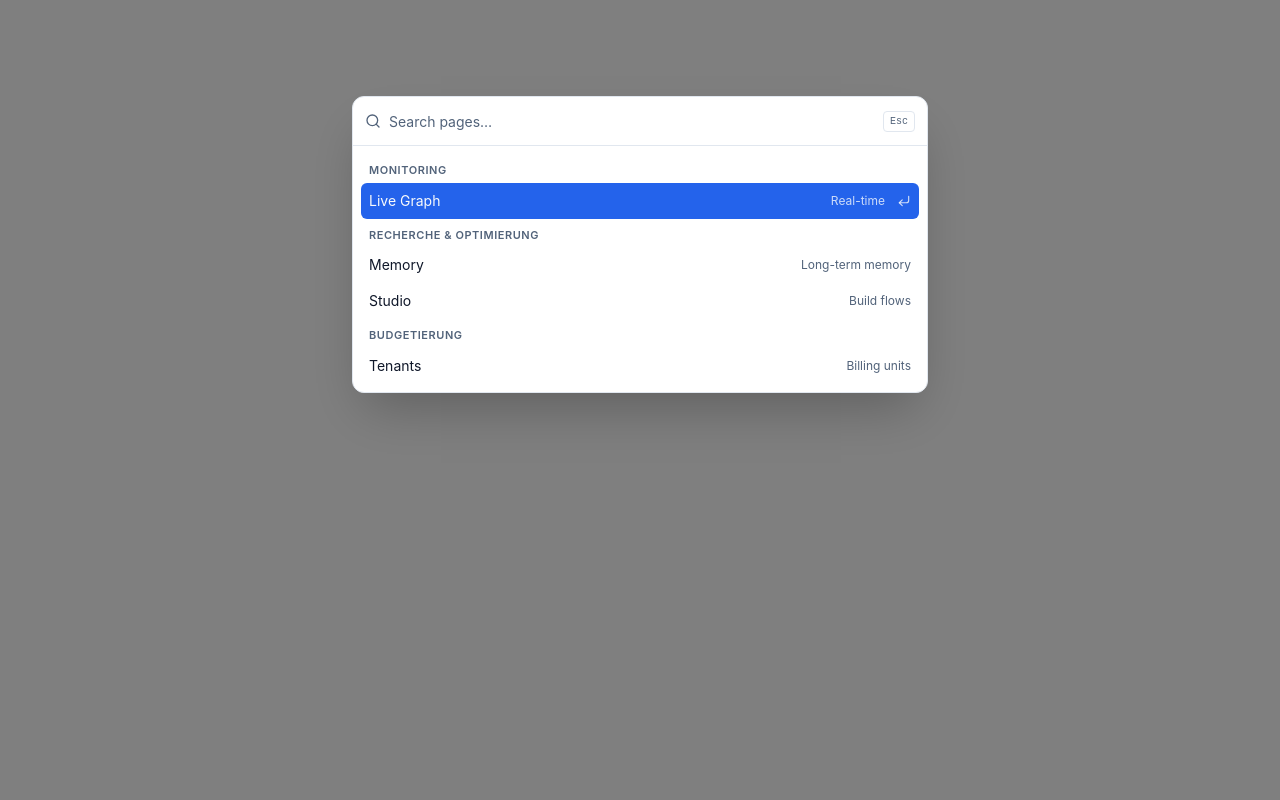
Test: CommandPalette › shows a no-match message
In the dropdown: (632, 121) [389, 97, 875, 145], type "zzzzzz"
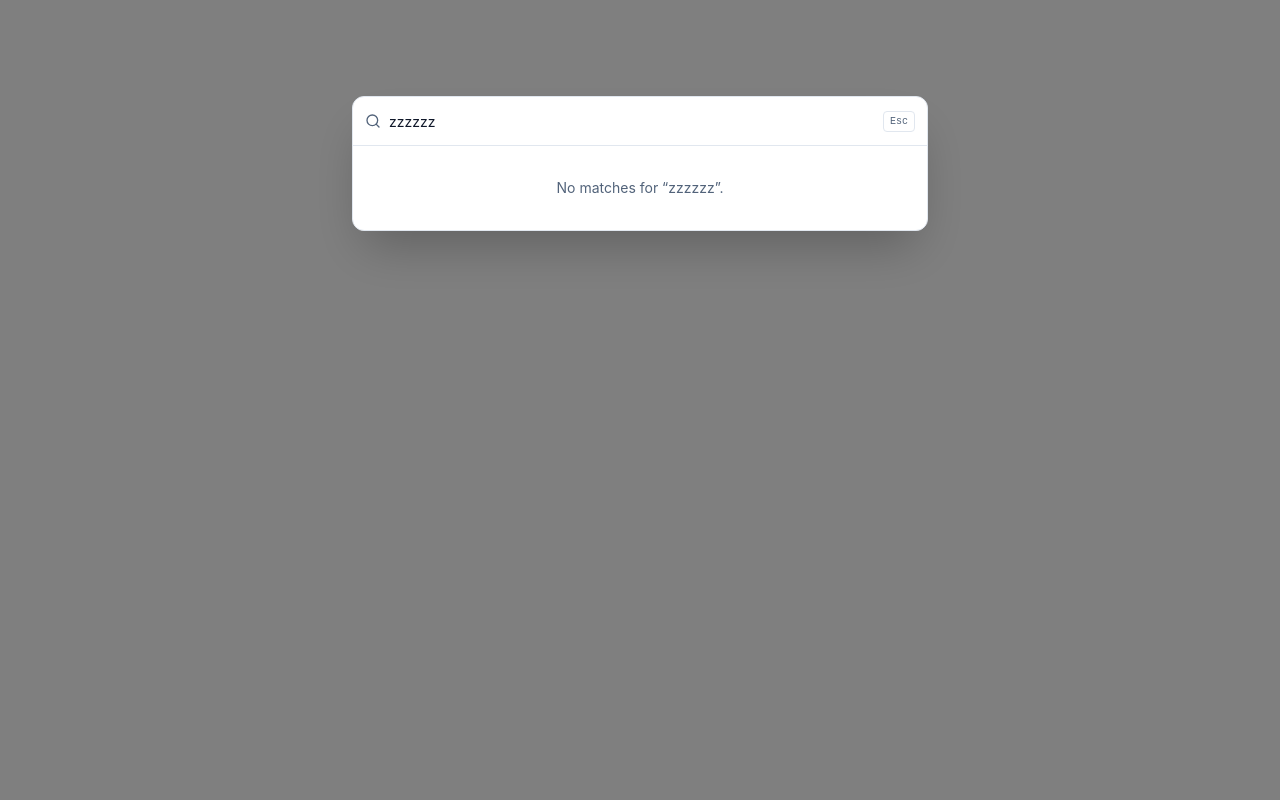
Check: no options are shown
Check: the list item "No matches for “zzzzzz”." is shown, box [556, 179, 724, 196]
